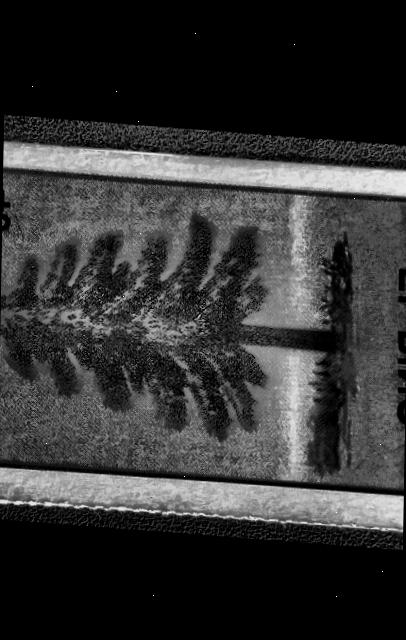El Pino: (0, 158, 406, 503)
